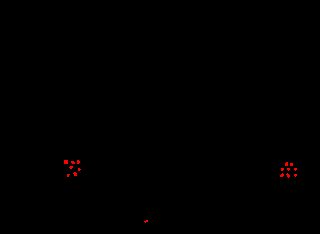Target: (286, 173, 290, 178), (64, 160, 68, 164), (73, 172, 77, 176), (280, 173, 284, 177), (77, 160, 80, 164), (71, 161, 75, 164), (285, 162, 288, 166), (69, 166, 73, 169), (144, 220, 148, 223), (290, 163, 293, 166), (78, 168, 81, 171), (281, 168, 284, 171), (287, 168, 290, 171), (294, 168, 297, 171), (67, 174, 70, 177), (294, 174, 297, 177)
